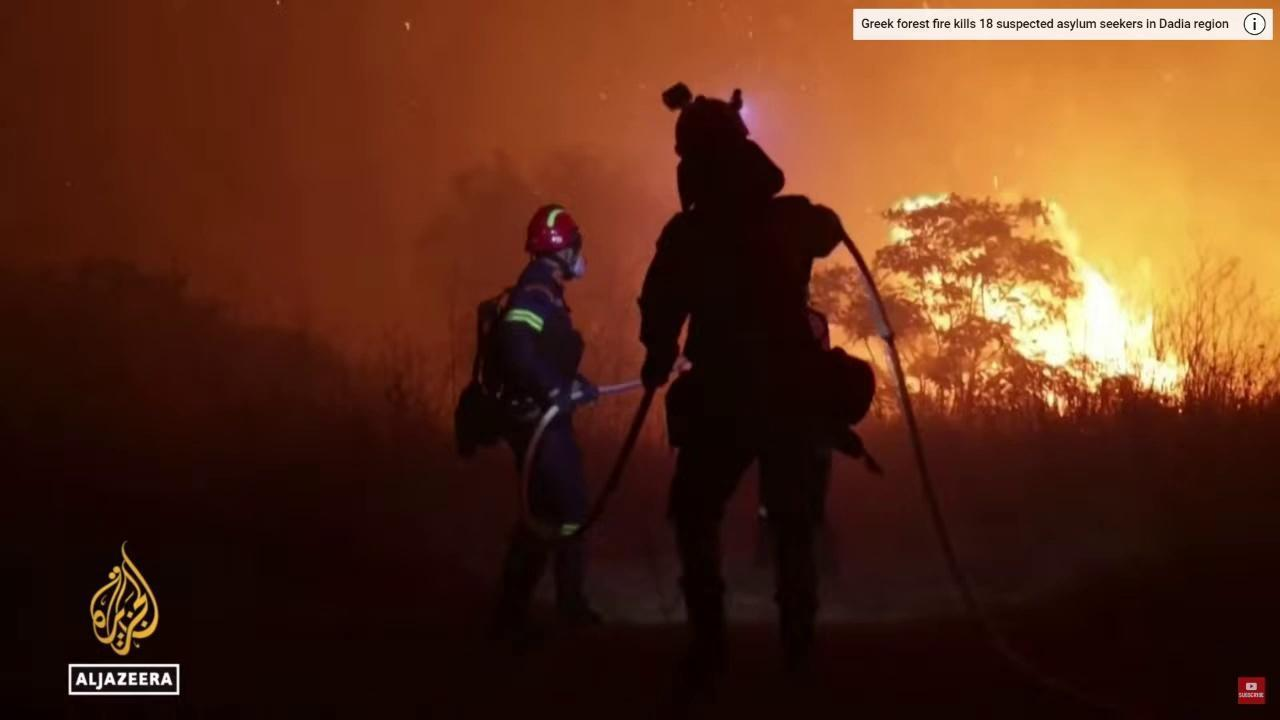fire: (878, 187, 1201, 413)
smoke: (0, 0, 1280, 538)
